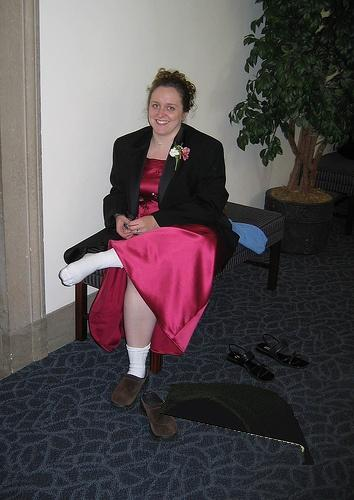tampered: (159, 384, 314, 465)
